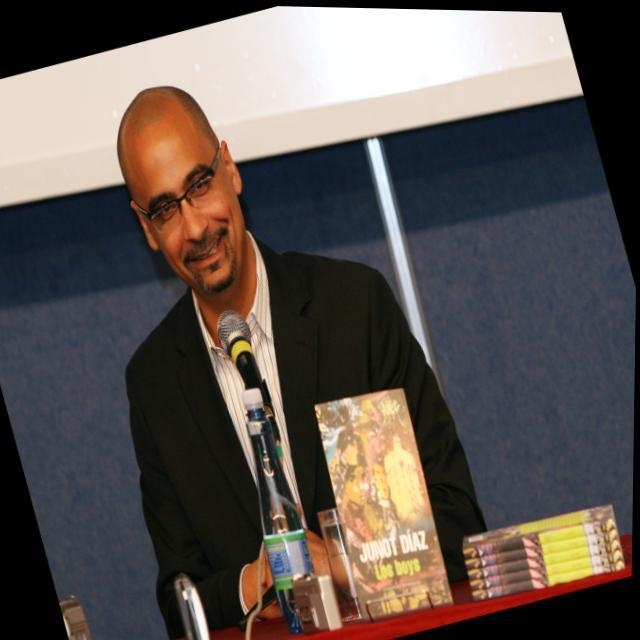Nonhelmet: (112, 82, 253, 298)
